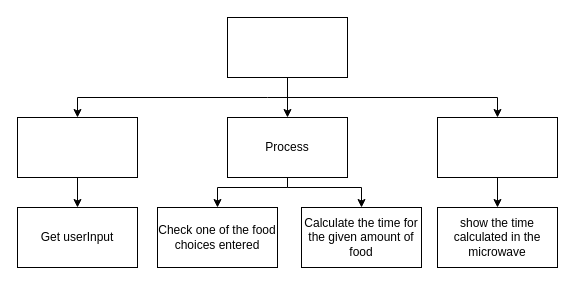
Image size: 575x285. Some labels were removed from this diagram. Each missing label, with the box of its shape:
Input: (16, 116, 138, 178)
Output: (436, 116, 558, 178)
Rock, paper, scissors: (226, 16, 348, 78)
